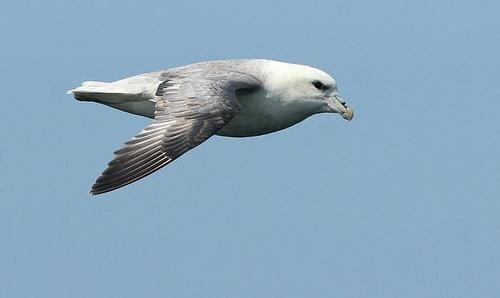bird: (63, 56, 355, 197)
